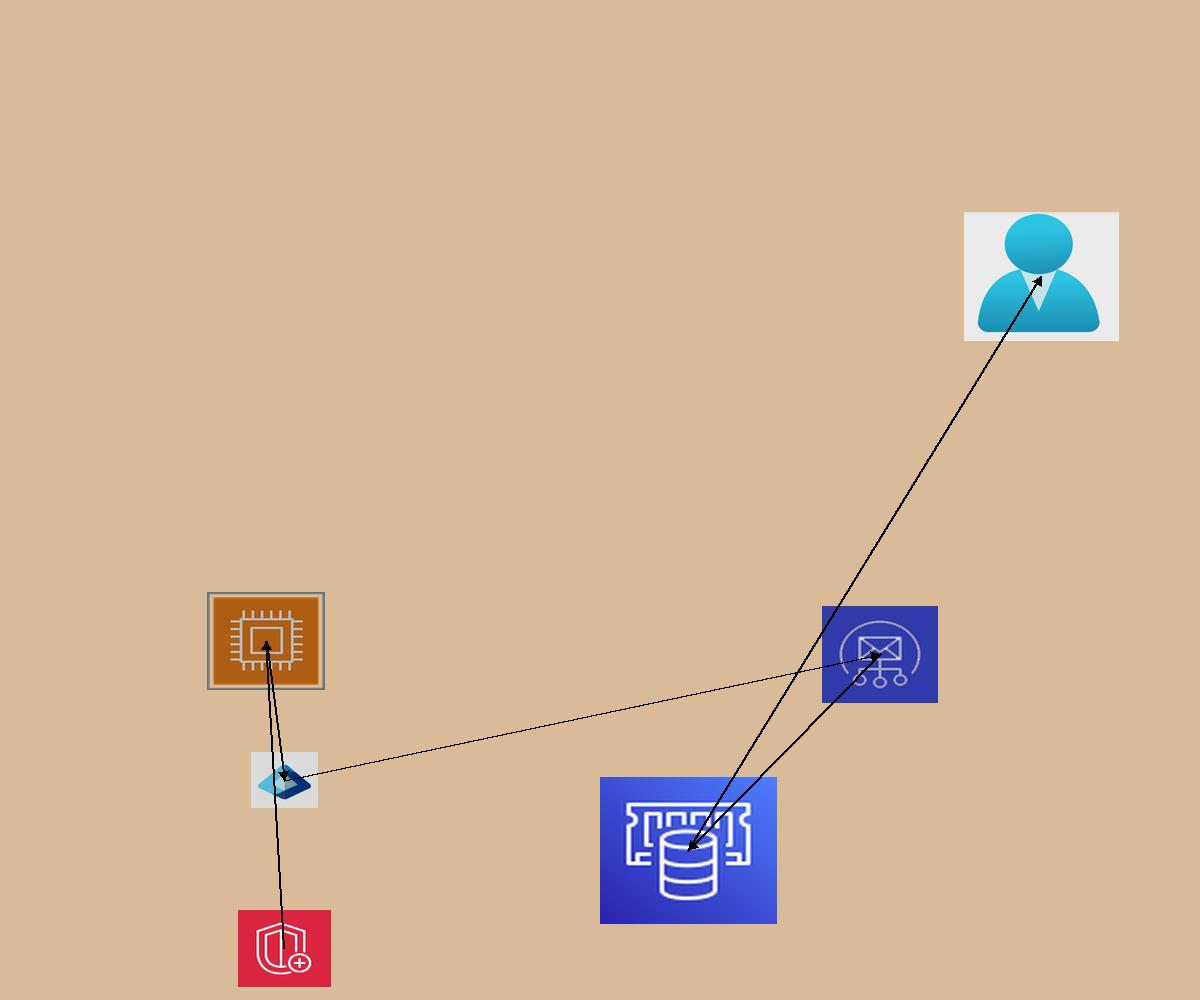AWS-Category_Compute: (207, 592, 325, 690)
AWS-ElastiCache: (600, 777, 777, 924)
AWS-Shield: (238, 910, 331, 987)
AWS-Simple-Email-Service: (822, 606, 938, 703)
Azure_microsoft_entra: (251, 752, 318, 808)
Azure_users: (964, 212, 1119, 341)
